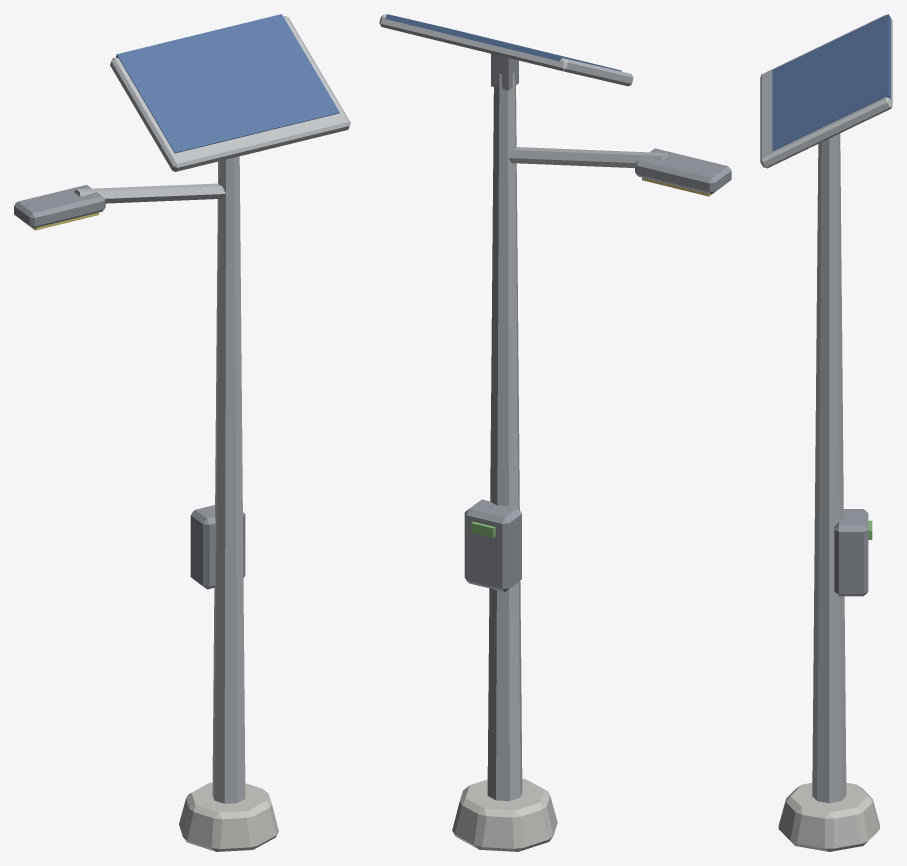
The model's file is mobiliario__poste_solar.glb.
3 renders of one model, left to right at view 1: azimuth 30°, elevation 25°; view 2: azimuth 150°, elevation 25°; view 3: azimuth 270°, elevation 25°, orthographic. The views are drawn at different scales.
Parts seen in each view (by area): view 1: mobiliario__poste_solar; view 2: mobiliario__poste_solar; view 3: mobiliario__poste_solar.
Boxes of the visible parts, x1=… form: mobiliario__poste_solar: x1=14, y1=14, x2=350, y2=851; mobiliario__poste_solar: x1=379, y1=14, x2=731, y2=851; mobiliario__poste_solar: x1=760, y1=14, x2=892, y2=851.
Bounding box in the file's own units: 0.7 × 1.76 × 0.271.
